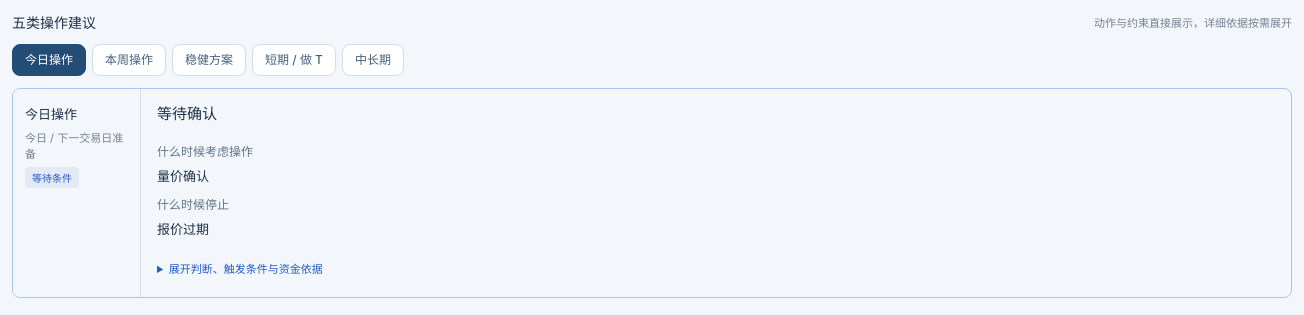
Scenario: 五类操作建议 › 五类切换，只展示所选结论，依据默认折叠
Click the tab "中长期". click: [373, 60]
box: [342,44,404,76]
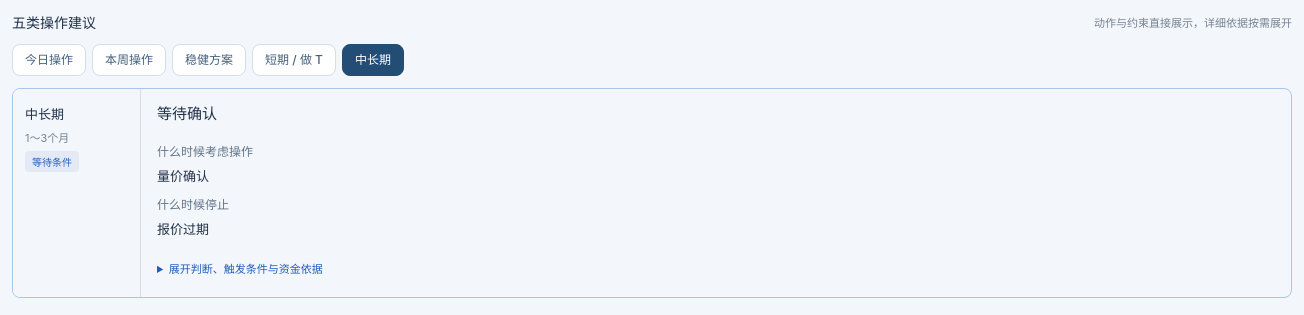
Expected: the text "报价过期" is shown, [157,221,209,237]
Now the text "1～3个月" is shown, box [25,129,69,145]
